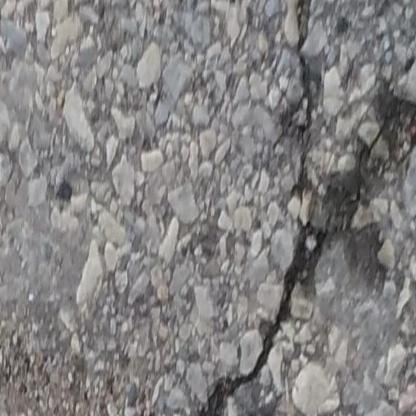Cracks: (186, 0, 416, 416)
